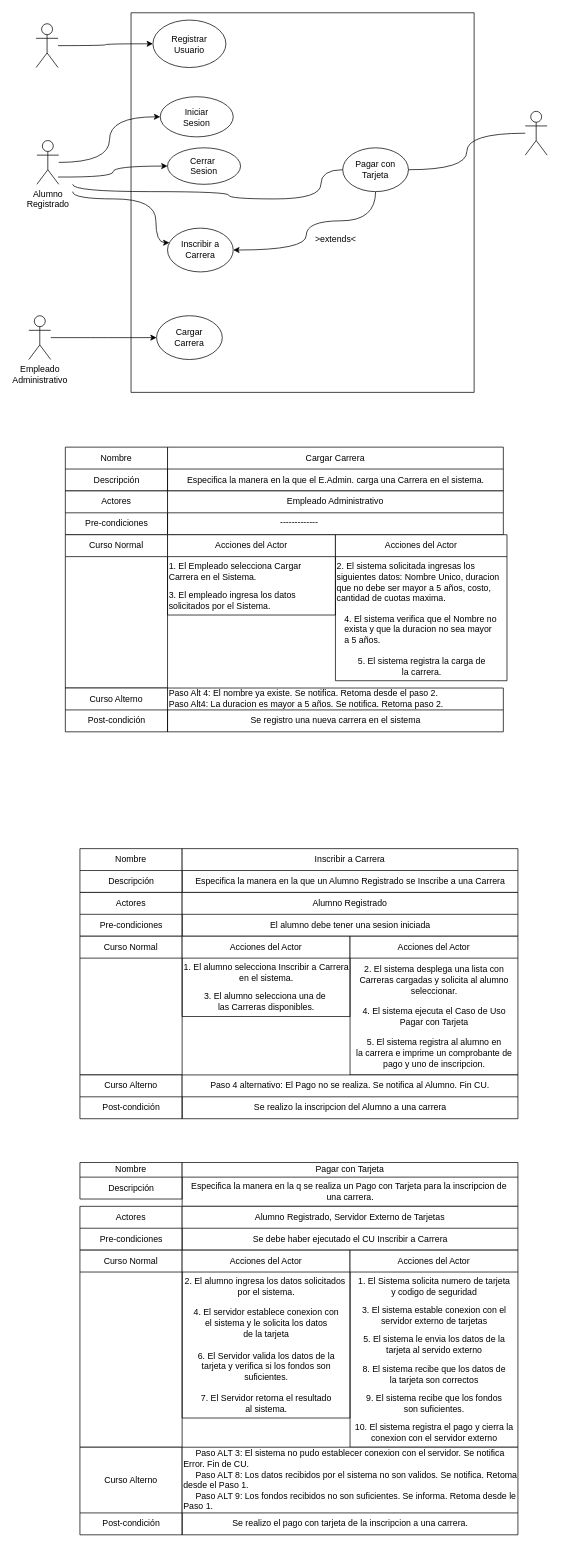
The diagram is 570 pixels wide and 1548 high, and some of its shapes have lost their labels. The shapes that lost their labels are listed below. From the top down, each one's centre as x and y in pixels, then its label:
the point at 46,45: Alumno No registrado
the point at 536,133: Servidor Externo de Tarjetas
